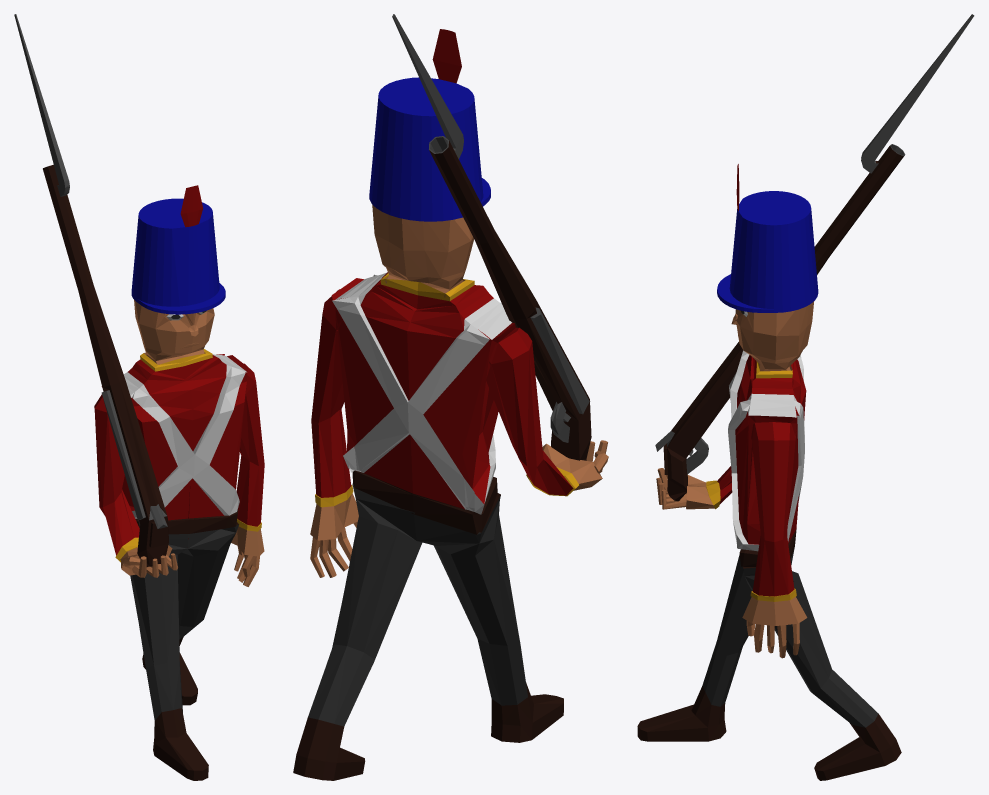
File: Infantry_000039.obj
The picture shows the model from 3 angles, left to right: view 1: azimuth 30°, elevation 25°; view 2: azimuth 150°, elevation 25°; view 3: azimuth 270°, elevation 25°; orthographic projection. The views are drawn at different scales.
Visible parts, largest first — view 1: {Man}_Circle, {Mesket}_Cube.001; view 2: {Man}_Circle, {Mesket}_Cube.001; view 3: {Man}_Circle, {Mesket}_Cube.001.
Part boxes in pixels (<box>): {Man}_Circle: <box>94,185,264,780</box>; {Mesket}_Cube.001: <box>14,14,168,566</box>; {Man}_Circle: <box>293,29,608,780</box>; {Mesket}_Cube.001: <box>392,14,591,460</box>; {Man}_Circle: <box>637,164,901,780</box>; {Mesket}_Cube.001: <box>655,14,974,501</box>.
Bounding box in the file's own units: 5.63 × 19.48 × 8.37.
